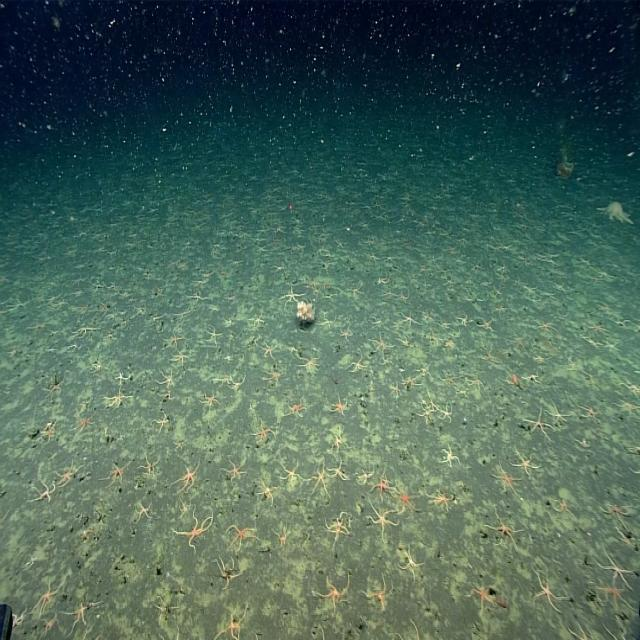brittle-stars: (173, 503, 216, 548), (594, 546, 635, 586), (363, 498, 399, 537), (486, 507, 521, 545), (314, 571, 350, 607), (532, 571, 562, 611), (219, 602, 250, 640), (33, 578, 65, 614), (226, 520, 262, 552), (489, 461, 519, 498), (602, 497, 634, 528), (363, 576, 392, 609), (29, 474, 57, 508), (524, 404, 550, 440), (212, 554, 239, 588), (396, 544, 422, 579), (600, 580, 631, 609), (71, 594, 95, 629), (132, 497, 158, 528), (174, 462, 199, 494), (396, 484, 422, 514), (308, 465, 331, 495), (471, 580, 494, 610), (514, 444, 535, 476), (439, 442, 461, 472), (106, 457, 127, 488), (56, 460, 80, 487), (281, 458, 302, 487), (254, 477, 275, 506), (220, 459, 245, 483), (284, 395, 308, 420), (105, 385, 128, 411), (324, 512, 347, 538), (253, 416, 273, 444), (328, 426, 347, 455), (371, 469, 388, 500), (139, 453, 161, 476), (578, 401, 600, 424), (299, 350, 320, 374), (370, 331, 390, 356), (548, 401, 568, 426), (72, 320, 98, 339), (263, 365, 285, 387), (155, 366, 176, 389), (200, 386, 220, 409), (272, 523, 289, 549), (433, 489, 453, 511), (72, 412, 96, 430), (11, 604, 28, 629), (327, 394, 347, 415), (162, 330, 184, 349), (414, 402, 434, 422), (330, 461, 349, 482), (40, 420, 58, 442), (281, 285, 301, 304), (203, 322, 220, 344), (349, 354, 366, 376), (439, 401, 455, 424), (172, 347, 190, 367), (470, 370, 486, 392), (259, 342, 277, 361), (537, 316, 556, 334), (338, 321, 353, 343), (187, 291, 209, 306), (151, 412, 171, 428), (357, 465, 372, 486), (401, 310, 418, 328), (112, 366, 128, 384), (389, 378, 403, 398), (90, 357, 104, 375), (457, 311, 469, 331), (382, 473, 392, 489)
